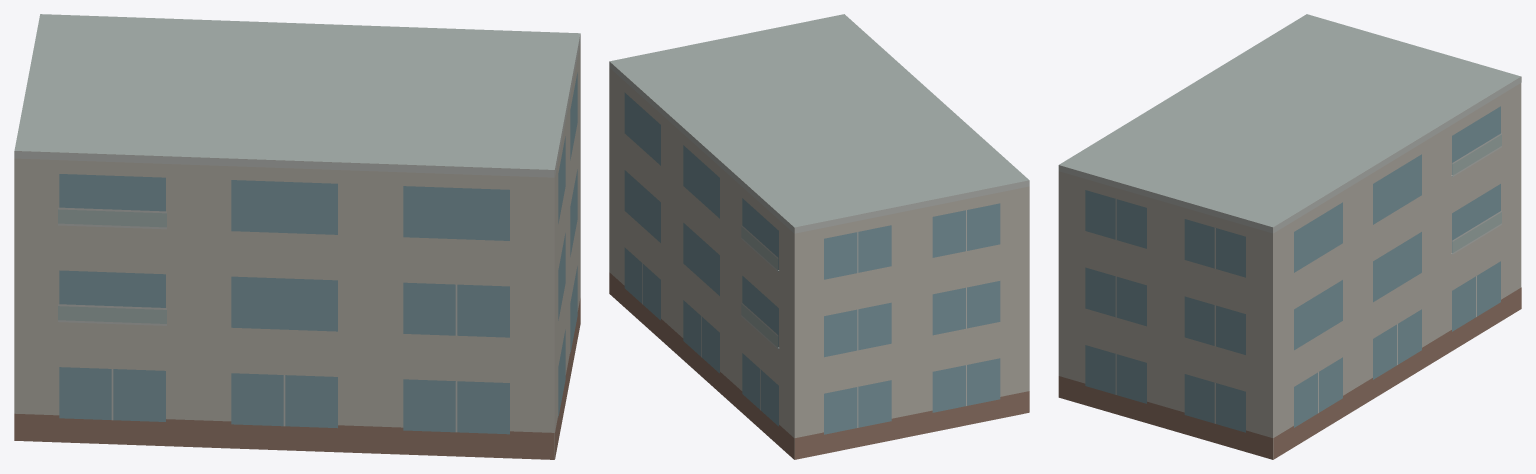
The model's file is survey-upis-32707490.glb.
The picture shows the model from 3 angles, left to right: view 1: azimuth 30°, elevation 25°; view 2: azimuth 150°, elevation 25°; view 3: azimuth 270°, elevation 25°; orthographic projection. The views are drawn at different scales.
Parts seen in each view (by area): view 1: survey-upis-32707490.tmp; view 2: survey-upis-32707490.tmp; view 3: survey-upis-32707490.tmp.
Boxes of the visible parts, x1,y1,x2,y2 form: survey-upis-32707490.tmp: [14, 14, 580, 459]; survey-upis-32707490.tmp: [609, 14, 1029, 459]; survey-upis-32707490.tmp: [1058, 14, 1521, 459].
Size of the model in its own units: 18.02 by 9.15 by 16.52.
